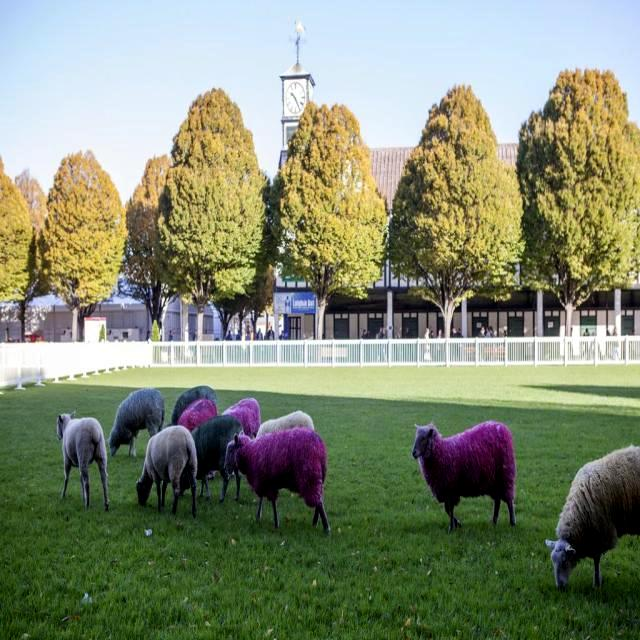sheep: (545, 443, 639, 586), (412, 421, 516, 526)
